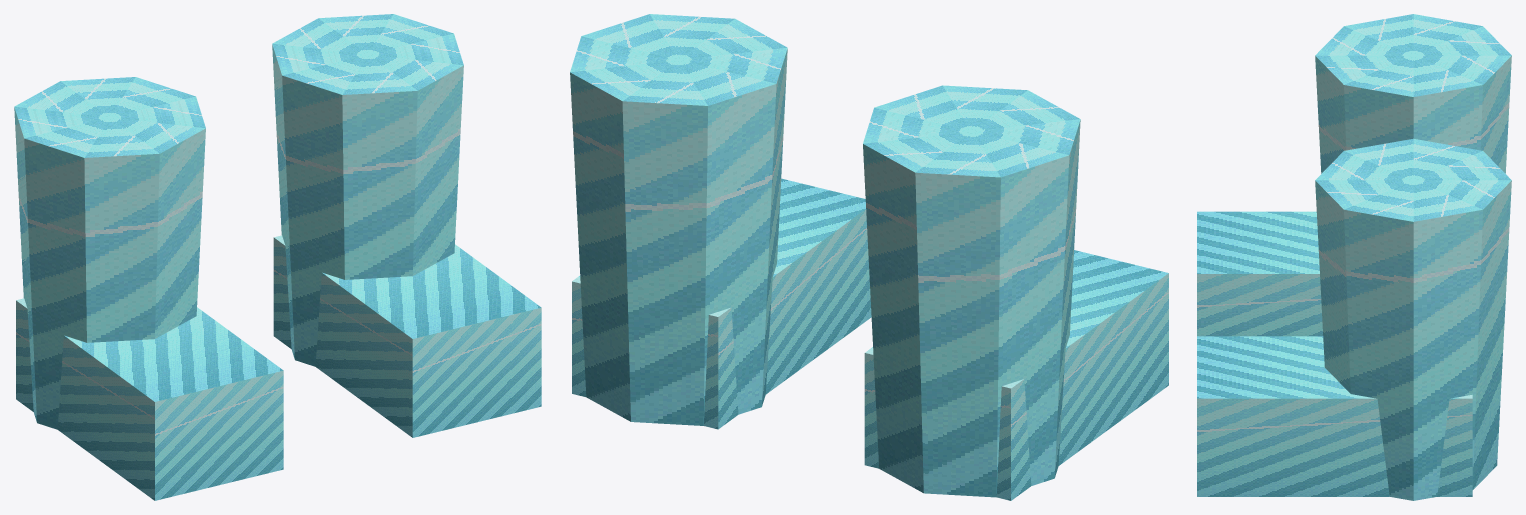
The model's file is botas_de_diamante.glb.
3 renders of one model, left to right at view 1: azimuth 30°, elevation 25°; view 2: azimuth 150°, elevation 25°; view 3: azimuth 270°, elevation 25°, orthographic. The views are drawn at different scales.
Parts seen in each view (by area): view 1: botas_de_diamante; view 2: botas_de_diamante; view 3: botas_de_diamante.
Part boxes in pixels (x1,y1,x2,y2): botas_de_diamante: (14,14,541,500); botas_de_diamante: (570,14,1168,500); botas_de_diamante: (1197,14,1511,500).
Bounding box in the file's own units: 0.5 × 0.32 × 0.32.
1 material, 1 textured.
